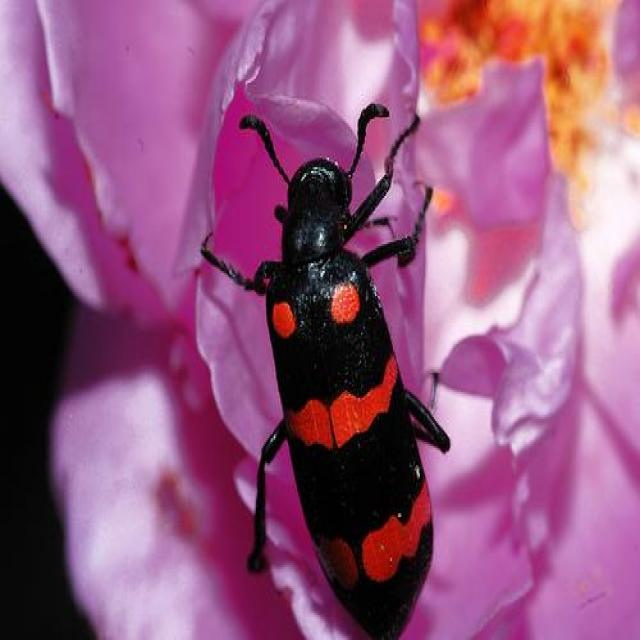BlisterBeetle-Adult-: (197, 89, 456, 634)
